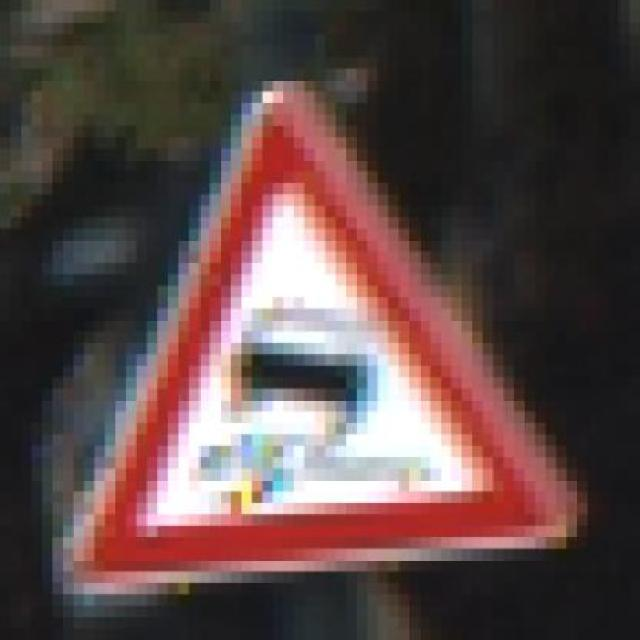Slippery Road Ahead: (64, 68, 588, 594)
